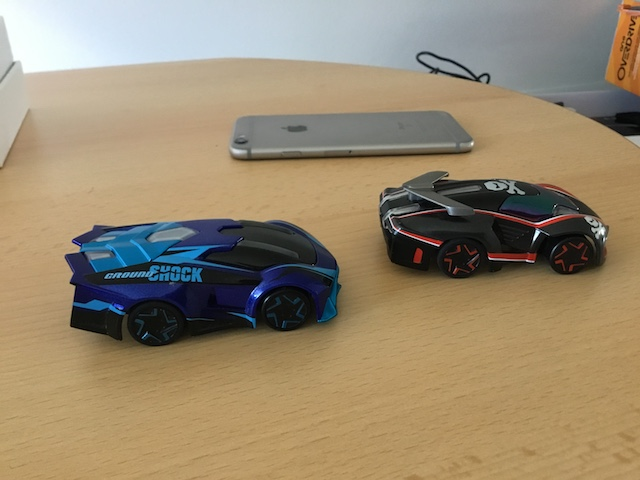car-blue: (60, 215, 346, 350)
car-red: (377, 166, 612, 279)
phone: (225, 109, 478, 163)
